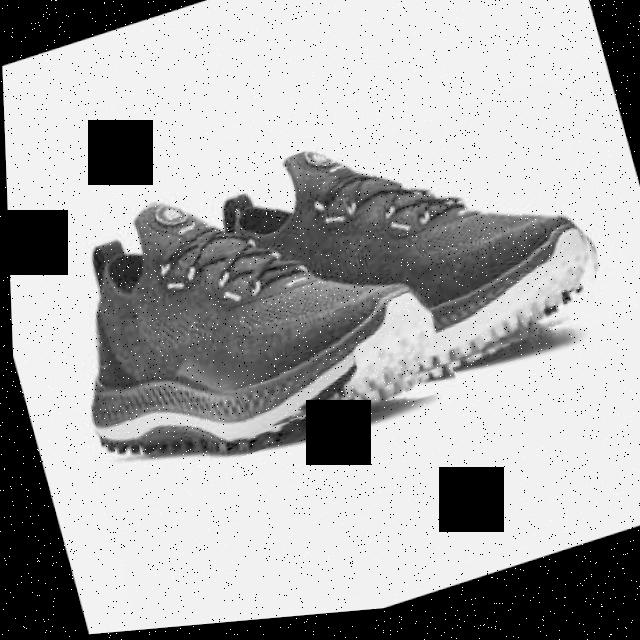shoe: (179, 79, 615, 443), (40, 129, 458, 503)
